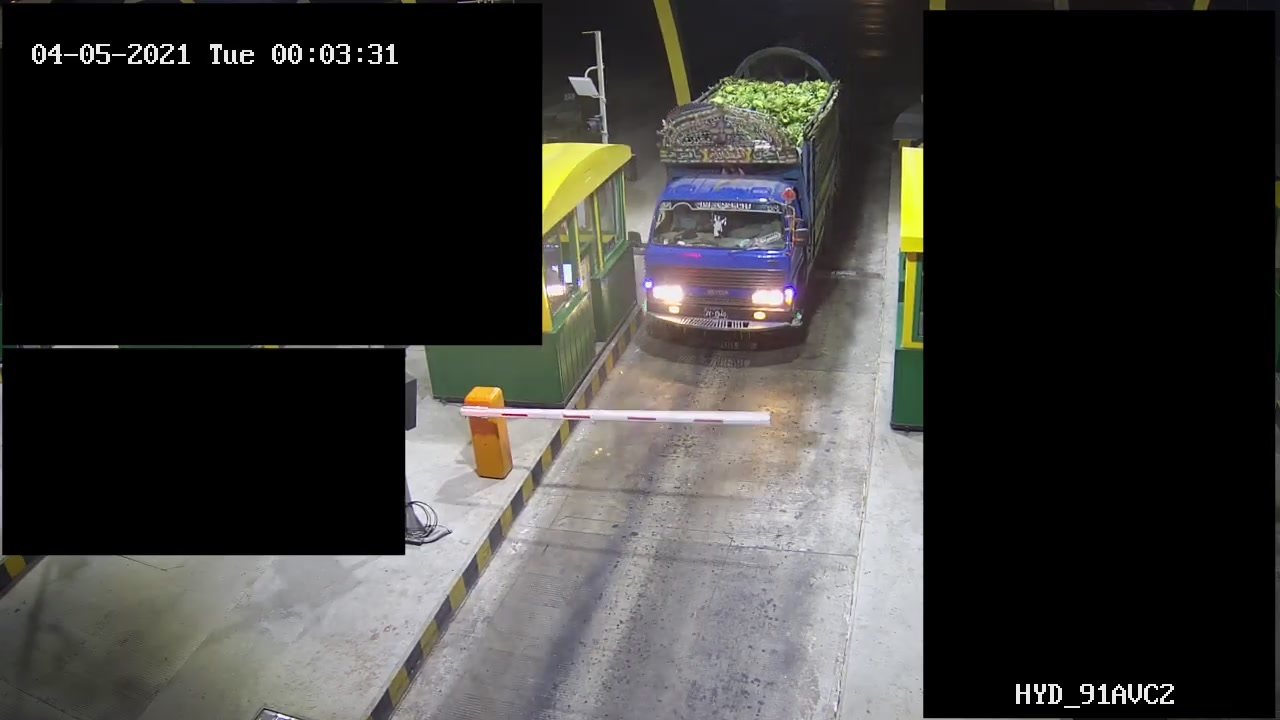F5: (637, 52, 858, 345)
